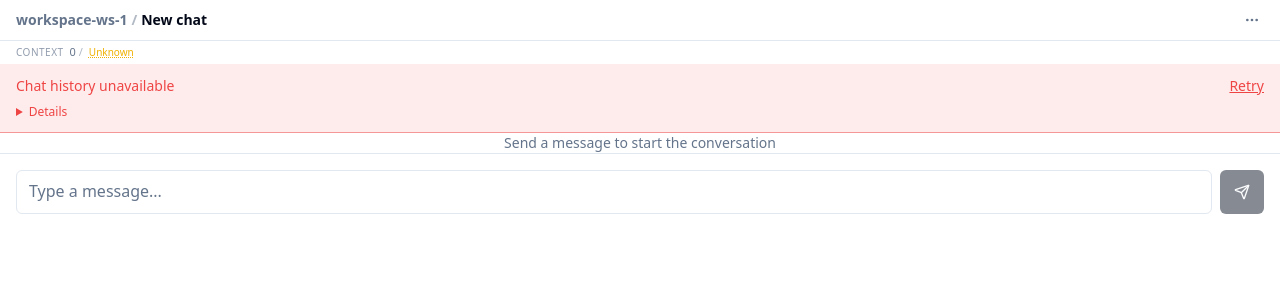
Scenario: ChatPage — message history error banner (#490) › renders the diagnostic banner when message history returns 5xx
Check: the message "Chat history unavailable Retry Details" is shown, box [0, 64, 1279, 133]
Check: the text "Chat history unavailable" is shown, box [16, 76, 174, 96]
Click the heading "Details" at {"x": 48, "y": 111}, box [29, 103, 67, 120]
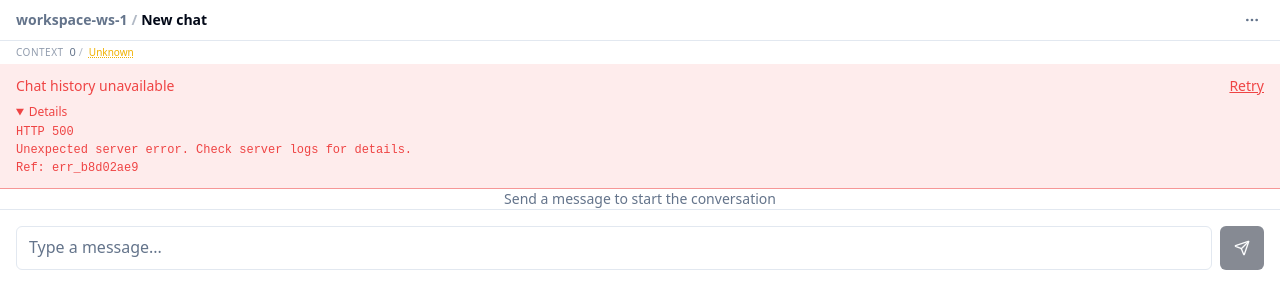
Check: the text "HTTP 500" is shown, box [16, 125, 74, 139]
Check: the text "Unexpected server error. Check server logs for details." is shown, box [16, 143, 412, 157]
Check: the text "Ref: err_b8d02ae9" is shown, box [16, 161, 138, 175]
